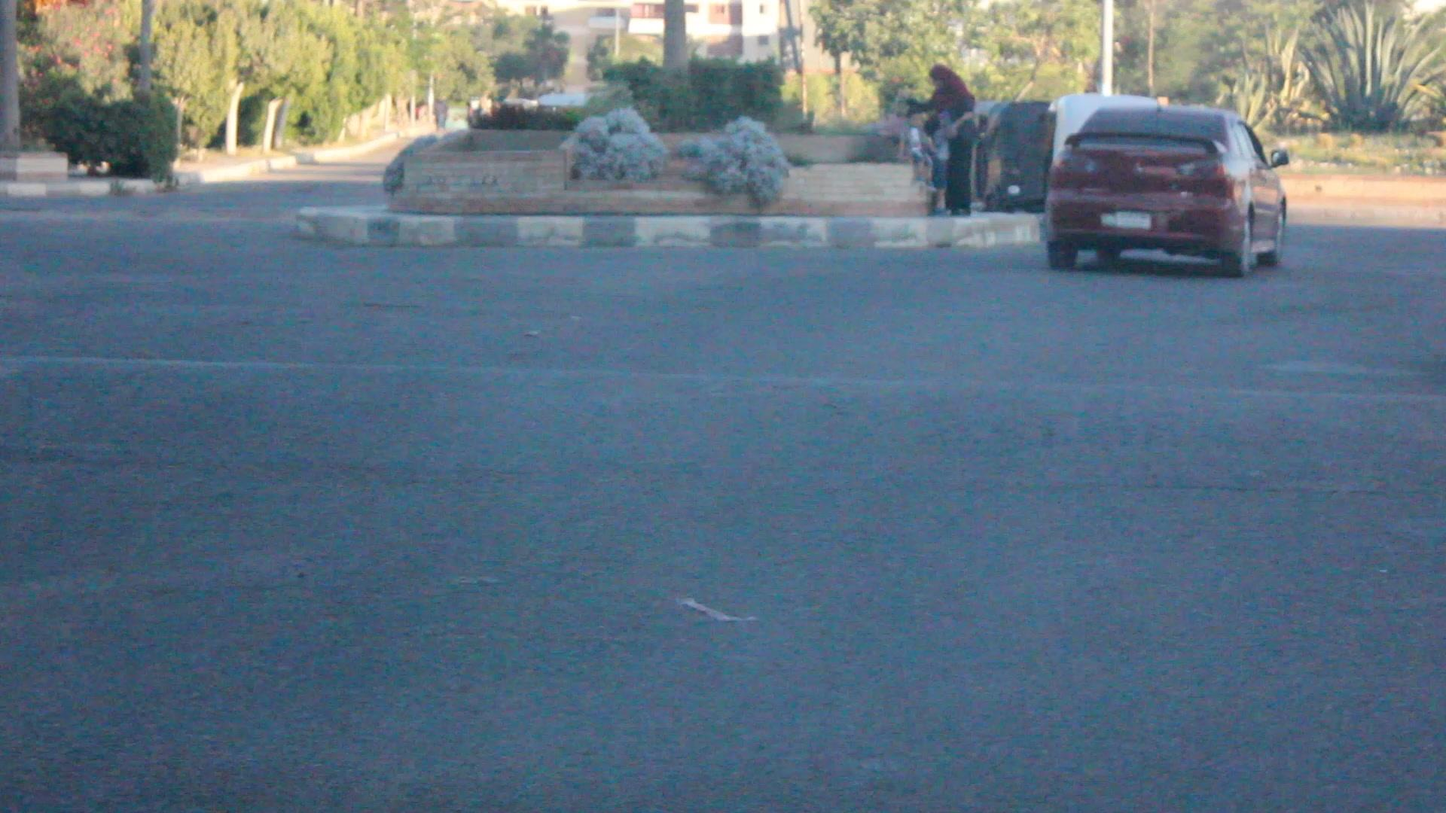Bump: (2, 353, 1445, 501)
